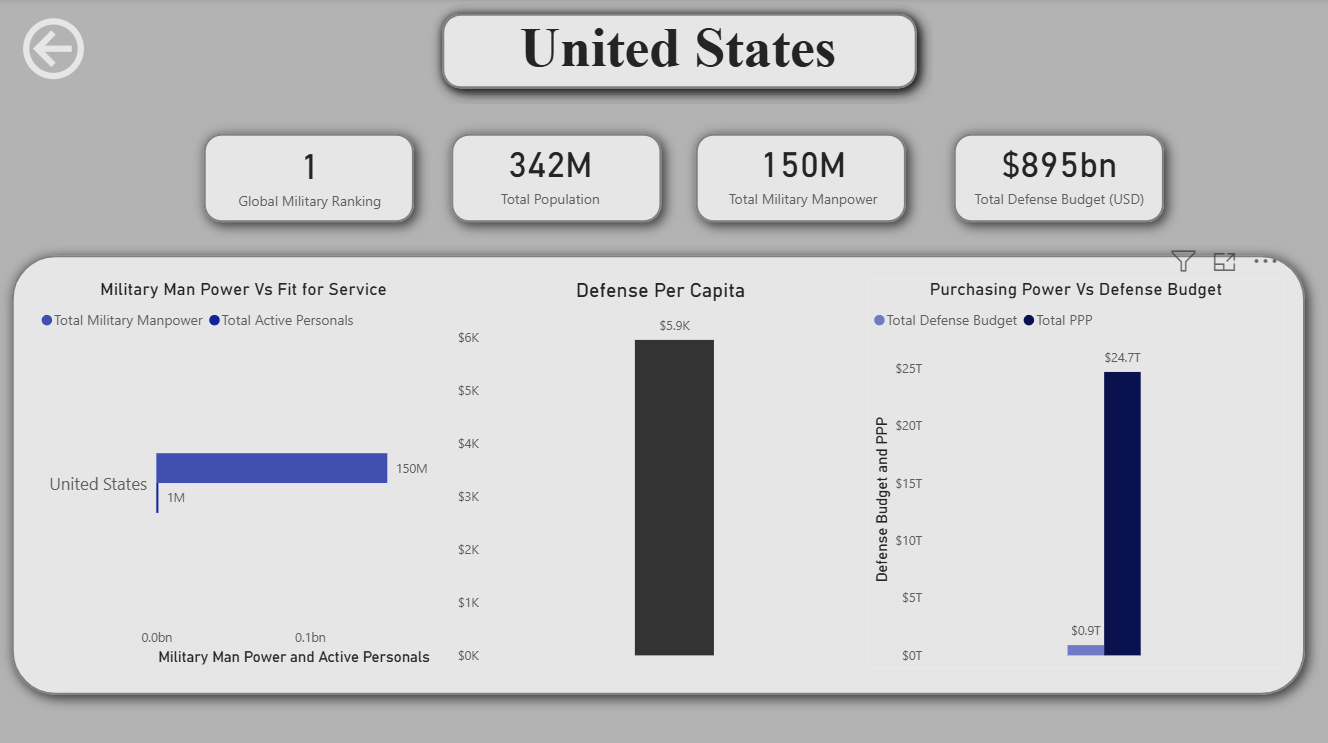

The page's visual inventory and layout, read from the dashboard file:
{"tool":"powerbi","page":{"name":"Country Strategic Profile","canvas":[1280,720],"ordinal":1},"visuals":[{"type":"actionButton","box":[20,13.3,70,71.7],"z":0},{"type":"group","id":"g1","title":"Background","box":[0.6,0,1270,683.3],"z":1000},{"type":"card","fields":{"Values":["Imp_Measures.Total Population"]},"box":[431.5,115.1,199.2,100.6],"z":2000},{"type":"card","fields":{"Values":["Imp_Measures.Total Military Manpower"]},"box":[673.7,115.7,200.6,100.3],"z":3000},{"type":"shape","title":"kpi1_bg","box":[421.7,114.5,231.7,115],"z":4000,"group":"g1"},{"type":"card","fields":{"Values":["Imp_Measures.Total Defense Budget"]},"box":[918.2,115.1,203.3,100.6],"z":4000},{"type":"clusteredBarChart","title":"Military Man Power Vs Fit for Service ","fields":{"Category":["global_military_expenditure.country"],"Y":["Imp_Measures.Total Military Manpower","Imp_Measures.Total Active Personals"]},"box":[37.2,268.3,400,375],"z":5000},{"type":"card","fields":{"Values":["Imp_Measures.Country Selected"]},"box":[408.3,0,490,85],"z":6000},{"type":"shape","title":"kpi2_bg","box":[656.7,114.5,231.7,115],"z":6000,"group":"g1"},{"type":"shape","title":"kpi3_bg","box":[903.4,114.5,231.7,115],"z":7000,"group":"g1"},{"type":"clusteredColumnChart","title":"Defense Per Capita","fields":{"Category":["global_military_expenditure.country"],"Y":["Imp_Measures.defense per capita"]},"box":[437.2,268.3,400,375],"z":7000},{"type":"shape","title":"kpi4_bg","box":[185,114.5,231.7,115],"z":7500,"group":"g1"},{"type":"card","fields":{"Values":["Sum(global_military_expenditure.rank)"]},"box":[201.7,116.1,198.3,101.7],"z":8000},{"type":"shape","title":"Plot_bg","box":[0.6,231.7,1270,451.7],"z":8000,"group":"g1"},{"type":"shape","title":"Title_bg","box":[413.4,0,485,101.7],"z":8500,"group":"g1"},{"type":"clusteredColumnChart","title":"Purchasing Power Vs Defense Budget","fields":{"Category":["global_military_expenditure.country"],"Y":["Imp_Measures.Total Defense Budget","Imp_Measures.Total PPP"]},"box":[835.6,268.3,400,375],"z":9000}]}

Visuals, with their boxes in screenshot pixels (x1, y1, x2, y2), scaled from the page's 1280x720 canvas onto the 1328x743 screenshot:
actionButton: [21, 14, 93, 88]
"Background" group: [1, 0, 1318, 705]
card - Imp_Measures.Total Population: [448, 119, 654, 223]
card - Imp_Measures.Total Military Manpower: [699, 119, 907, 223]
"kpi1_bg" shape: [438, 118, 678, 237]
card - Imp_Measures.Total Defense Budget: [953, 119, 1164, 223]
"Military Man Power Vs Fit for Service " clusteredBarChart: [39, 277, 454, 664]
card - Imp_Measures.Country Selected: [424, 0, 932, 88]
"kpi2_bg" shape: [681, 118, 922, 237]
"kpi3_bg" shape: [937, 118, 1178, 237]
"Defense Per Capita" clusteredColumnChart: [454, 277, 869, 664]
"kpi4_bg" shape: [192, 118, 432, 237]
card - Sum(global_military_expenditure.rank): [209, 120, 415, 225]
"Plot_bg" shape: [1, 239, 1318, 705]
"Title_bg" shape: [429, 0, 932, 105]
"Purchasing Power Vs Defense Budget" clusteredColumnChart: [867, 277, 1282, 664]
